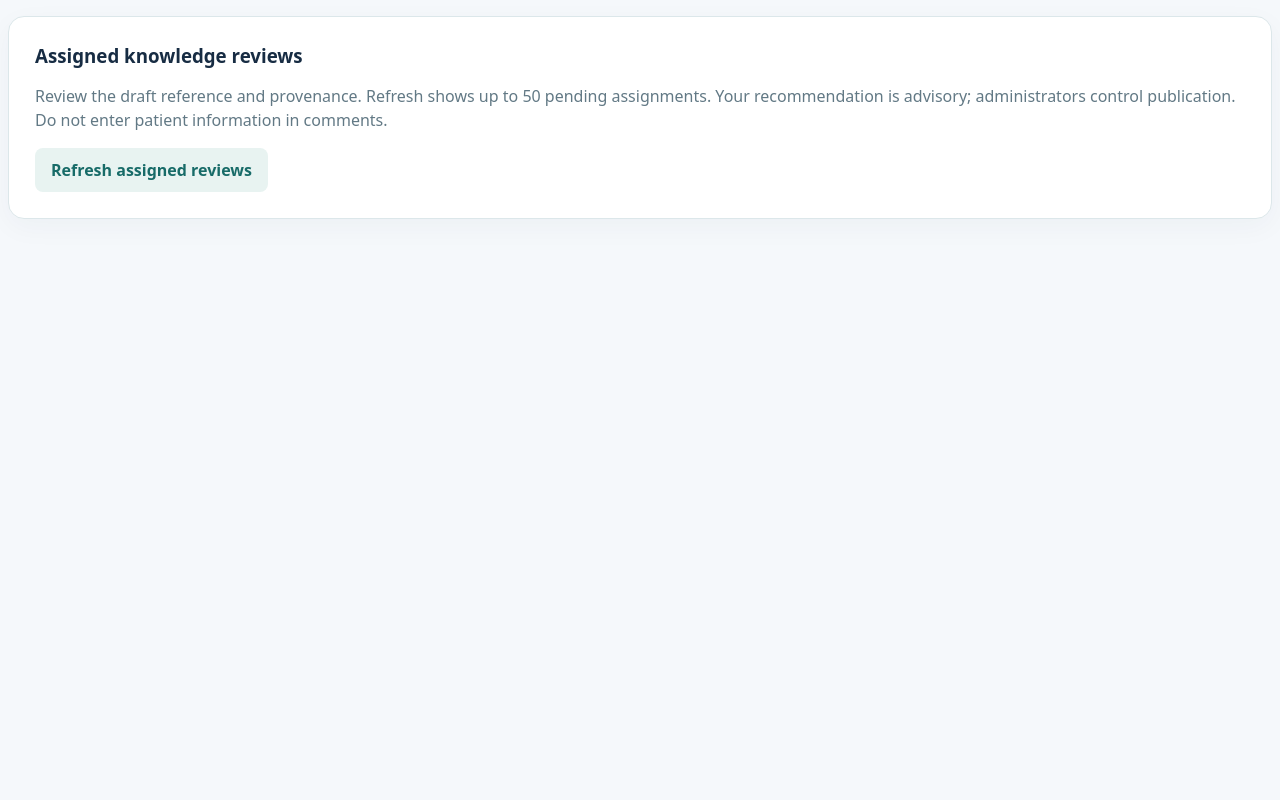
Test: allows an assigned doctor to submit a decline
Click the button "Refresh assigned reviews" at (151, 170), box top-left (35, 148), bottom-right (268, 192)
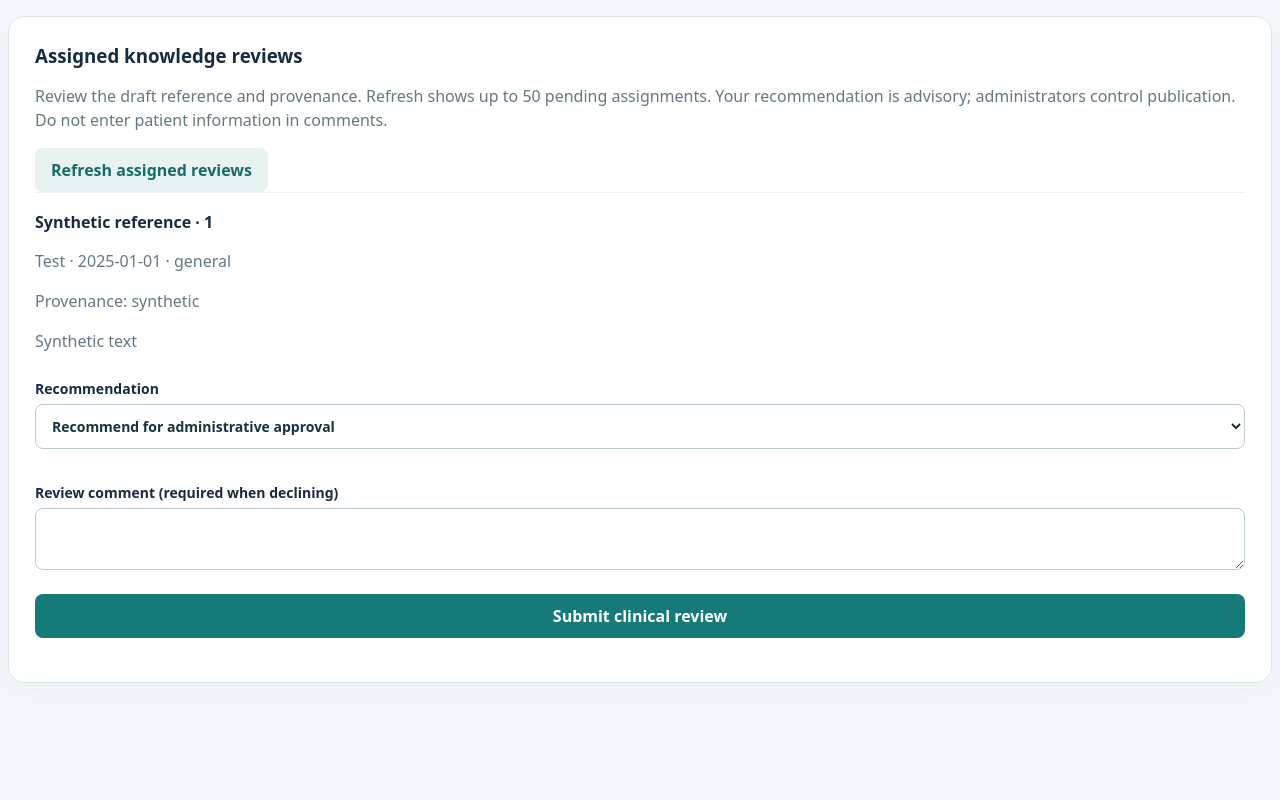
Result: the text "Synthetic reference · 1" is shown at top-left (35, 211), bottom-right (213, 233)
Select "Decline" in the dropdown labelled "Recommendation" at (640, 426), box top-left (35, 404), bottom-right (1245, 449)
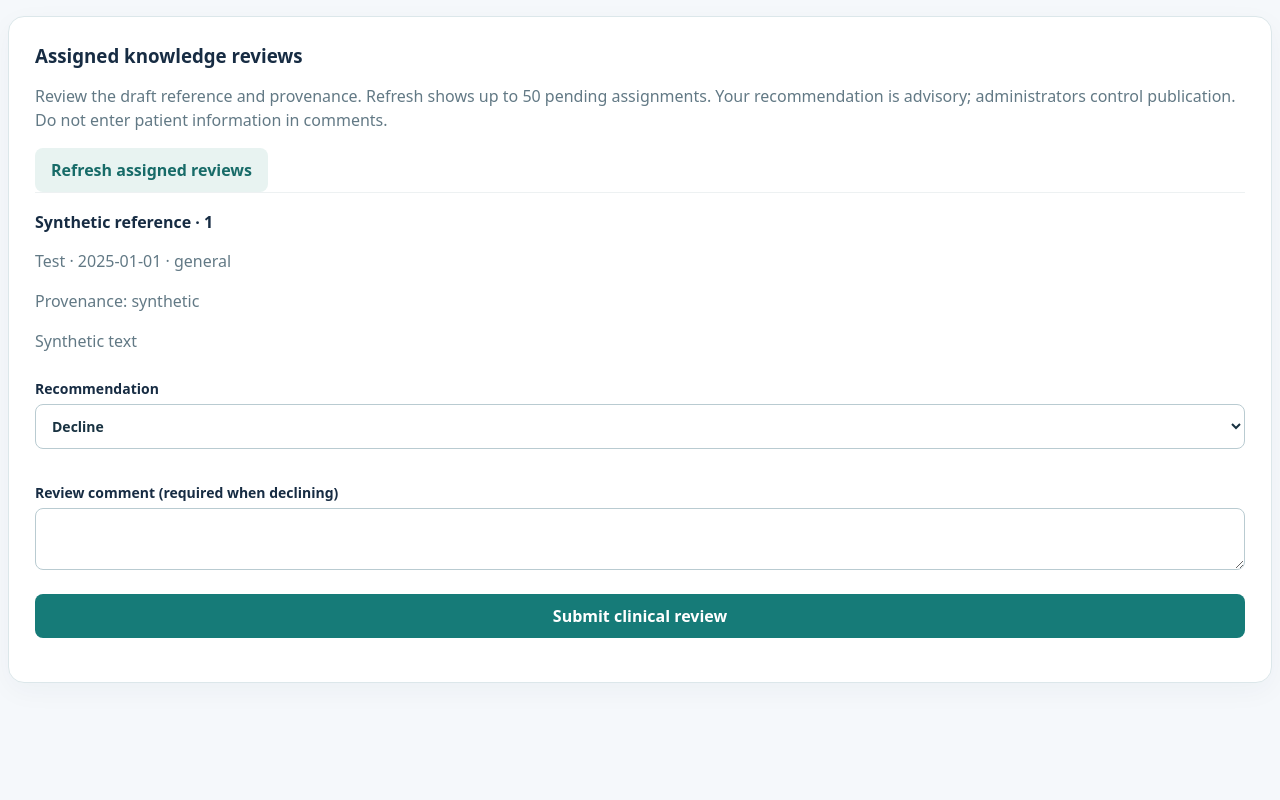
Type "Synthetic concern" into the text box labelled "Review comment (required when declining)" at (640, 539), box top-left (35, 508), bottom-right (1245, 570)
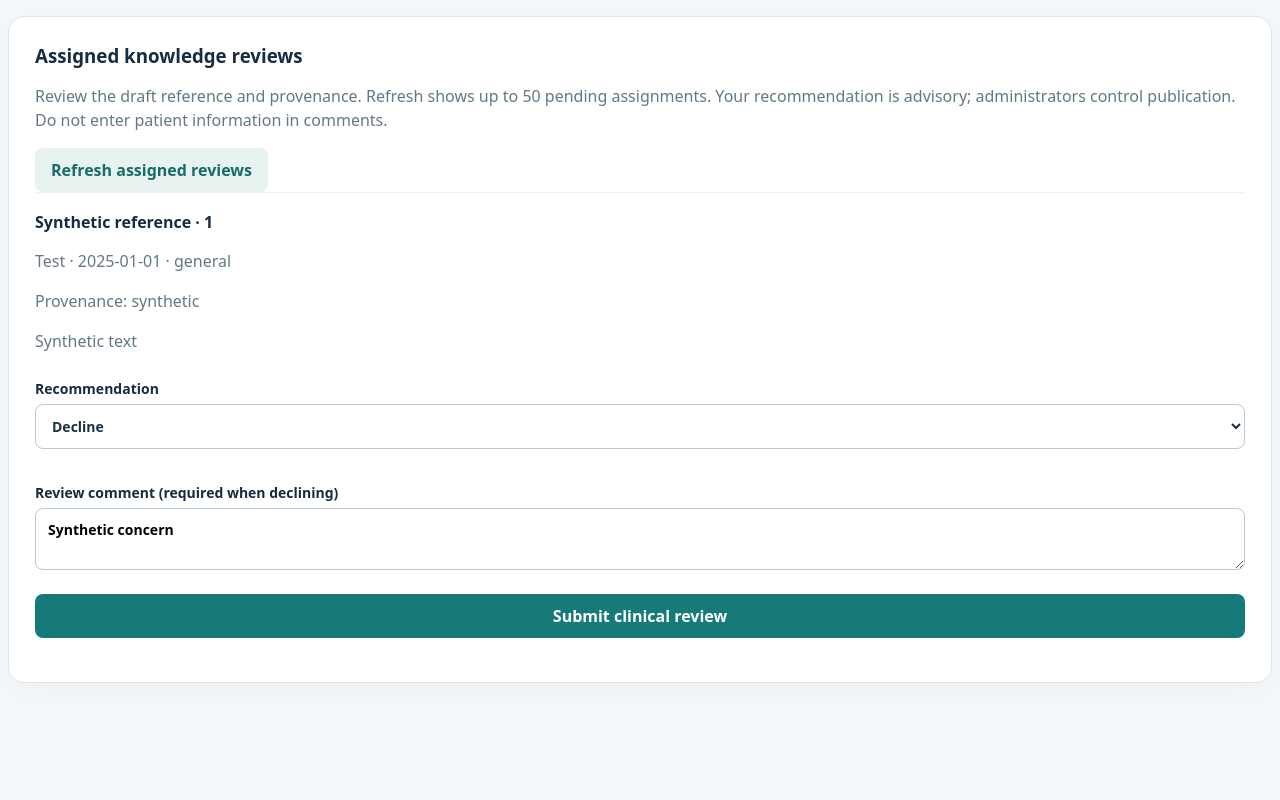
Click the button "Submit clinical review" at (640, 616), box top-left (35, 594), bottom-right (1245, 638)
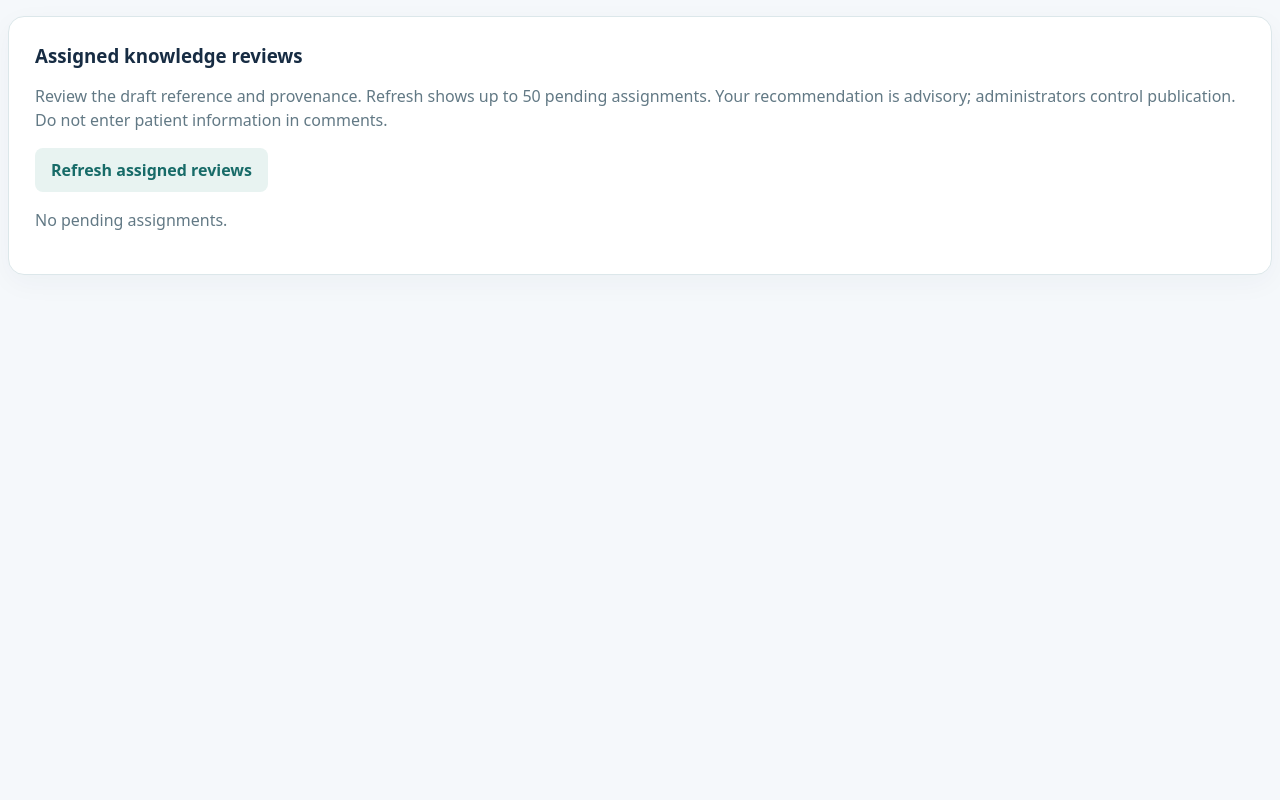
Result: the text "No pending assignments." is shown at top-left (35, 209), bottom-right (227, 231)
